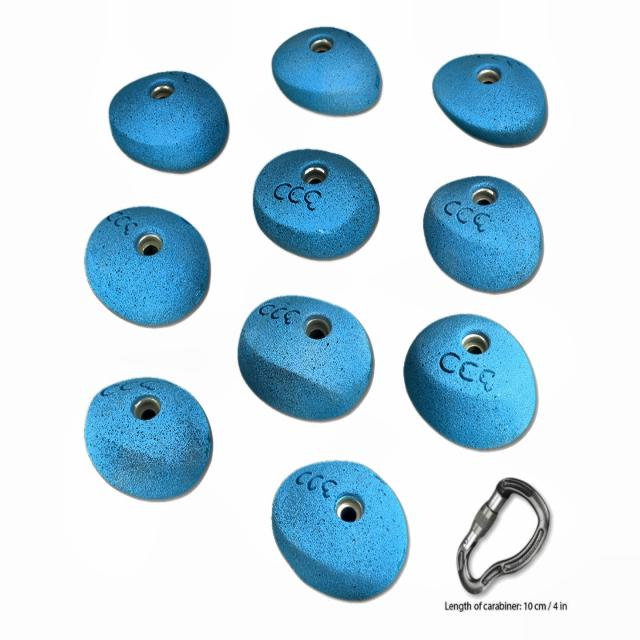Hold: (271, 457, 410, 600), (235, 293, 376, 424), (406, 311, 538, 449), (88, 380, 213, 501), (85, 210, 214, 326), (250, 148, 381, 260), (427, 173, 545, 295), (110, 65, 234, 174), (434, 52, 546, 146), (272, 28, 381, 116)
